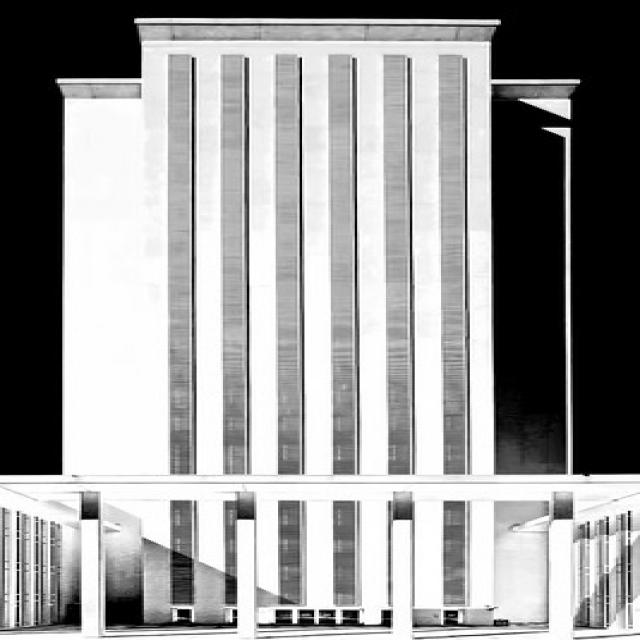Normal_building: (19, 14, 592, 640)
